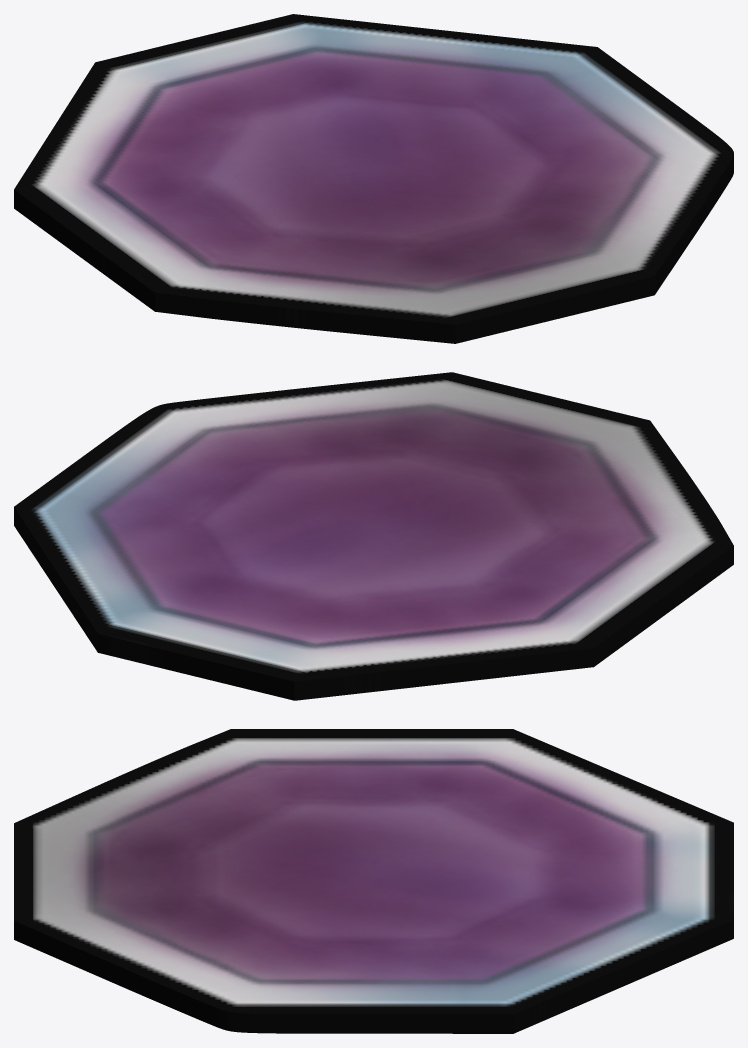
3 views of the same model, one above another, from view 1: azimuth 30°, elevation 25°; view 2: azimuth 150°, elevation 25°; view 3: azimuth 270°, elevation 25° (orthographic).
Visible parts, largest first — view 1: path24; view 2: path24; view 3: path24.
Part boxes in pixels (x1,y1,x2,y2): path24: (14,14,733,343); path24: (14,372,733,700); path24: (14,729,733,1033).
Bounding box in the file's own units: 80.08 × 2.5 × 85.31.
Materials: 1 (1 with a texture image).
